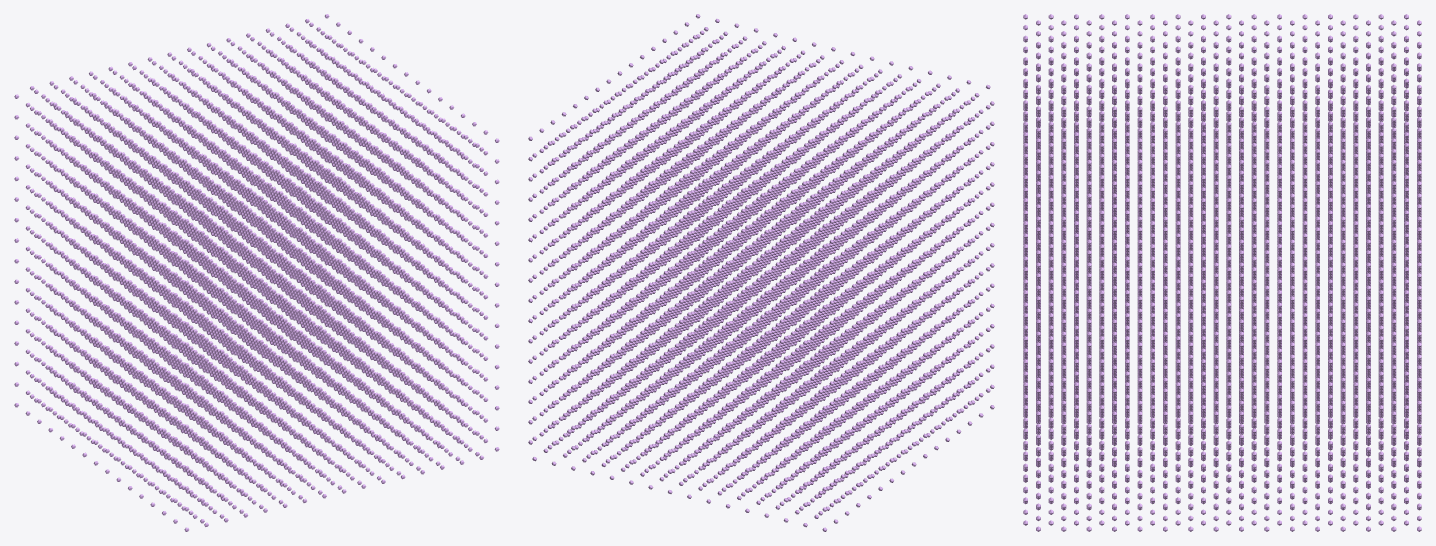
Rendered from li_metal.glb.
3 views of the same model, side by side, from view 1: azimuth 30°, elevation 25°; view 2: azimuth 150°, elevation 25°; view 3: azimuth 270°, elevation 25° (orthographic). The views are drawn at different scales.
Bounding box in the file's own units: 55.08 × 55.08 × 55.08.
